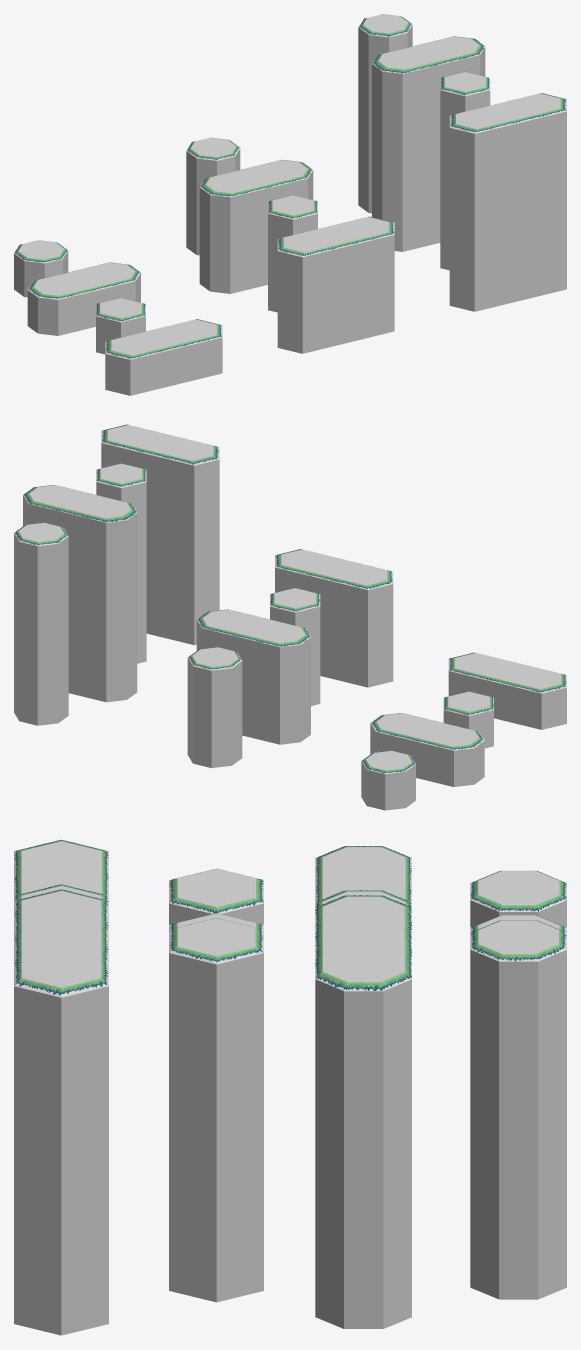
File: Terrain_resource.fbx
3 renders of one model, top to bottom at view 1: azimuth 30°, elevation 25°; view 2: azimuth 150°, elevation 25°; view 3: azimuth 270°, elevation 25°, orthographic. The views are drawn at different scales.
Parts seen in each view (by area): view 1: Hexagon_3_004, Octagon2_3_001, Hexagon_1.5_004, Octagon2_1.5_001, Hexagon_0.5_004, Octagon2_0.5_001, Octagon1_3_001, Hexagon_3_001, Octagon1_1.5_001, Hexagon_1.5_001, Octagon1_0.5_001, Hexagon_0.5_001 (+6 smaller); view 2: Hexagon_3_004, Octagon2_3_001, Octagon1_3_001, Hexagon_1.5_004, Octagon2_1.5_001, Octagon1_1.5_001, Hexagon_0.5_004, Octagon2_0.5_001, Hexagon_3_001, Octagon1_0.5_001, Hexagon_1.5_001, Hexagon_0.5_001 (+6 smaller); view 3: Hexagon_3_004, Octagon2_3_001, Octagon1_3_001, Hexagon_3_001, Octagon2_0.5_001, Hexagon_0.5_004, Octagon1_0.5_001, Hexagon_0.5_001, edge10, edge12, Rock_Module_resource, edge3 (+5 smaller).
Part boxes in pixels (x1,y1,x2,y2): Hexagon_3_004: [449, 93, 566, 311]; Octagon2_3_001: [372, 36, 485, 251]; Hexagon_1.5_004: [277, 217, 394, 353]; Octagon2_1.5_001: [199, 160, 313, 293]; Hexagon_0.5_004: [105, 319, 222, 395]; Octagon2_0.5_001: [27, 262, 140, 335]; Octagon1_3_001: [358, 14, 412, 213]; Hexagon_3_001: [440, 72, 490, 270]; Octagon1_1.5_001: [186, 137, 240, 255]; Hexagon_1.5_001: [268, 195, 317, 312]; Octagon1_0.5_001: [14, 240, 68, 297]; Hexagon_0.5_001: [96, 298, 145, 354]; Hexagon_3_004: [101, 424, 219, 645]; Octagon2_3_001: [23, 485, 137, 702]; Octagon1_3_001: [14, 522, 68, 725]; Hexagon_1.5_004: [275, 549, 393, 687]; Octagon2_1.5_001: [196, 609, 310, 744]; Octagon1_1.5_001: [187, 647, 242, 768]; Hexagon_0.5_004: [448, 653, 566, 729]; Octagon2_0.5_001: [370, 713, 484, 786]; Hexagon_3_001: [96, 464, 146, 663]; Octagon1_0.5_001: [361, 750, 415, 810]; Hexagon_1.5_001: [270, 588, 320, 705]; Hexagon_0.5_001: [443, 691, 493, 748]; Hexagon_3_004: [14, 889, 108, 1335]; Octagon2_3_001: [315, 896, 411, 1328]; Octagon1_3_001: [470, 920, 566, 1299]; Hexagon_3_001: [169, 918, 263, 1302]; Octagon2_0.5_001: [315, 846, 411, 902]; Hexagon_0.5_004: [14, 839, 108, 895]; Octagon1_0.5_001: [470, 870, 566, 927]; Hexagon_0.5_001: [169, 868, 263, 924]; edge10: [315, 895, 411, 990]; edge12: [14, 889, 108, 995]; Rock_Module_resource: [177, 918, 535, 955]; edge3: [169, 869, 263, 913].
Size of the model in its own units: 16410 by 6121 by 8967.
1 material, 1 textured.
